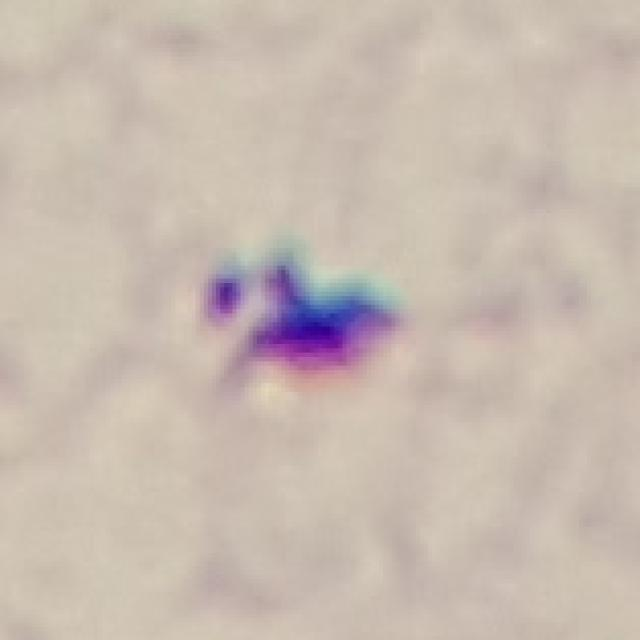non-sperm: (199, 246, 403, 379)
